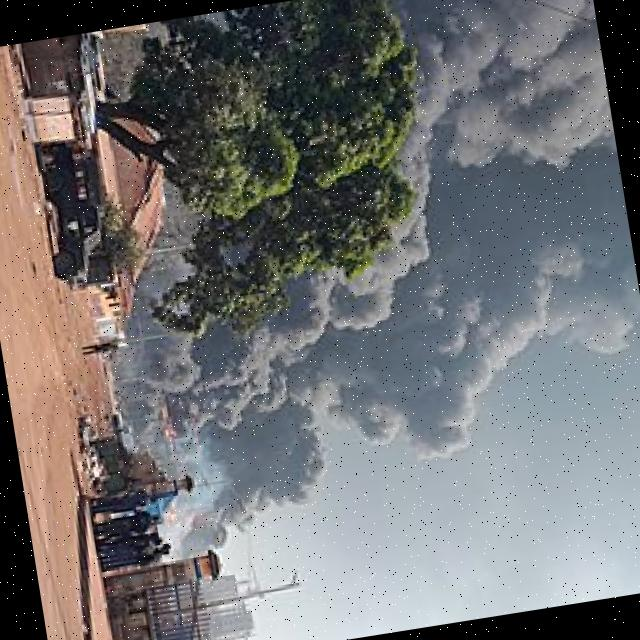explosion: (59, 0, 640, 483)
